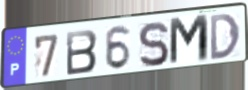6: (104, 24, 132, 72)
7: (33, 32, 60, 79)
B: (64, 27, 99, 77)
D: (208, 12, 242, 62)
M: (167, 13, 211, 68)
S: (136, 20, 171, 69)
